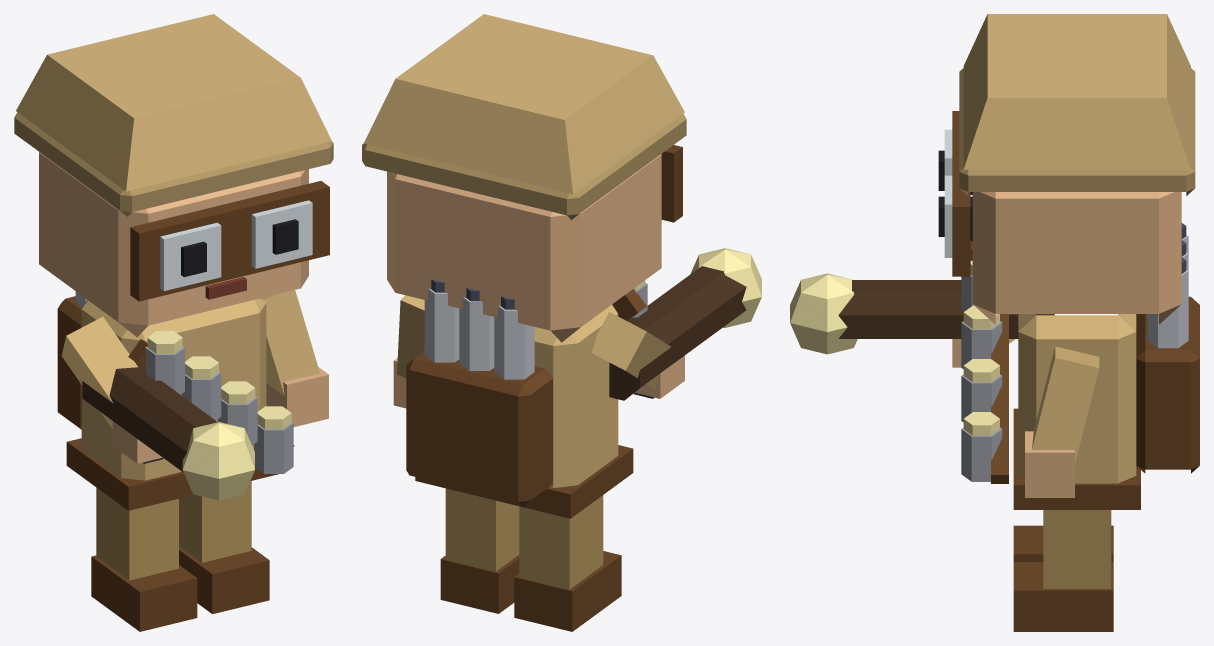
Rendered from blinder_common.glb.
The picture shows the model from 3 angles, left to right: view 1: azimuth 30°, elevation 25°; view 2: azimuth 150°, elevation 25°; view 3: azimuth 270°, elevation 25°; orthographic projection. The views are drawn at different scales.
Visible parts, largest first — view 1: blinder_common_mesh; view 2: blinder_common_mesh; view 3: blinder_common_mesh.
Boxes of the visible parts, x1,y1,x2,y2 form: blinder_common_mesh: (14,14,333,631); blinder_common_mesh: (362,14,761,631); blinder_common_mesh: (790,14,1199,631).
Size of the model in its own units: 0.6292 by 1.3 by 0.8886.
1 material, 1 textured.
